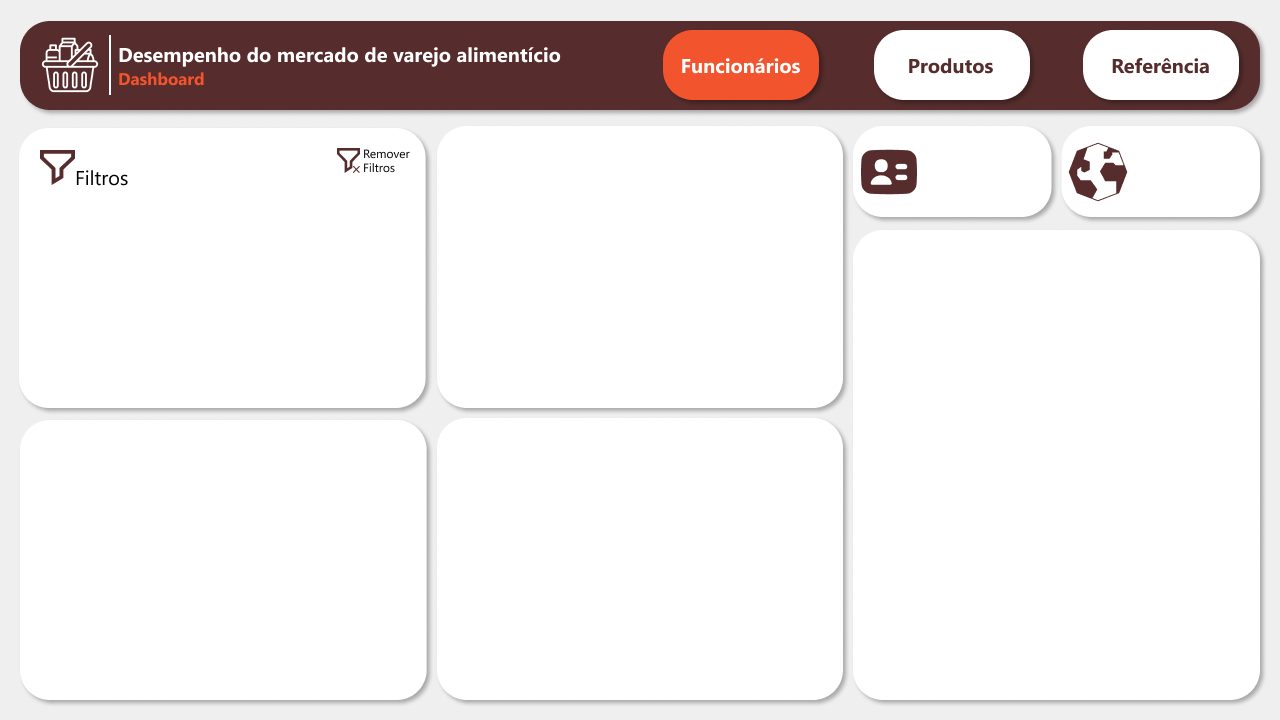

This screenshot's page, from the dashboard's own definition file:
{"tool":"powerbi","page":{"name":"Funcionarios","canvas":[1280,720],"ordinal":1},"visuals":[{"type":"slicer","fields":{"Values":["F_Vendas.Situação_Extensão2"]},"box":[221.1,316.1,199.8,87.9],"z":0},{"type":"slicer","fields":{"Values":["D_Cliente.Cliente"]},"box":[21.3,314.6,199.8,87.9],"z":1000},{"type":"actionButton","box":[0,0,100,40],"z":2000},{"type":"columnChart","title":" Ganho por cada vendedor","fields":{"Y":["F_Vendas.Ganho"],"Category":["D_Vendedor.Vendedor"]},"box":[450,126.4,380,276.4],"z":3000},{"type":"azureMap","title":"Ganho por estado e seus destaques","fields":{"Category":["D_Cliente.Estado_Formatado"]},"box":[862,229.3,388.7,465.3],"z":4000},{"type":"barChart","title":"Ganho por canal de vendas","fields":{"Y":["F_Vendas.Ganho"],"Category":["D_Canal_vendas.Canal de Vendas"]},"box":[32.6,422.4,388.3,272.1],"z":5000},{"type":"lineClusteredColumnComboChart","title":"Ganho e meta mensal","fields":{"Y2":["Sum(F_Metas.Meta)"],"Y":["F_Vendas.Ganho_Mensal"],"Category":["Calendario.MesNome"]},"box":[441.4,422.9,400,272.9],"z":6000},{"type":"actionButton","box":[872.8,26.7,156.7,73.9],"z":7000},{"type":"actionButton","box":[1081.7,26.7,158.3,73.9],"z":8000},{"type":"card","fields":{"Values":["D_Vendedor.Quant_Vendedor"]},"box":[907.5,125.8,130,88.3],"z":9000},{"type":"card","fields":{"Values":["D_UF.Quant_Estad"]},"box":[1119.7,126.1,130.4,87.9],"z":10000},{"type":"actionButton","box":[330.6,140,84.4,38.9],"z":11000},{"type":"slicer","title":"Data","fields":{"Values":["F_Vendas.Data"]},"box":[29.5,199.7,391.2,96.6],"z":12000},{"type":"actionButton","box":[32.6,26.9,78,73.7],"z":13000}]}

Visuals, with their boxes in screenshot pixels (x1, y1, x2, y2), scaled from the page's 1280x720 canvas onto the 1280x720 screenshot:
slicer - F_Vendas.Situação_Extensão2: region(221, 316, 421, 404)
slicer - D_Cliente.Cliente: region(21, 315, 221, 402)
actionButton: region(0, 0, 100, 40)
" Ganho por cada vendedor" columnChart: region(450, 126, 830, 403)
"Ganho por estado e seus destaques" azureMap: region(862, 229, 1251, 695)
"Ganho por canal de vendas" barChart: region(33, 422, 421, 694)
"Ganho e meta mensal" lineClusteredColumnComboChart: region(441, 423, 841, 696)
actionButton: region(873, 27, 1030, 101)
actionButton: region(1082, 27, 1240, 101)
card - D_Vendedor.Quant_Vendedor: region(908, 126, 1038, 214)
card - D_UF.Quant_Estad: region(1120, 126, 1250, 214)
actionButton: region(331, 140, 415, 179)
"Data" slicer: region(30, 200, 421, 296)
actionButton: region(33, 27, 111, 101)
